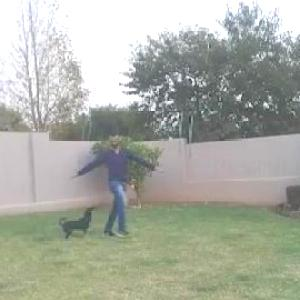land: (66, 129, 146, 225)
